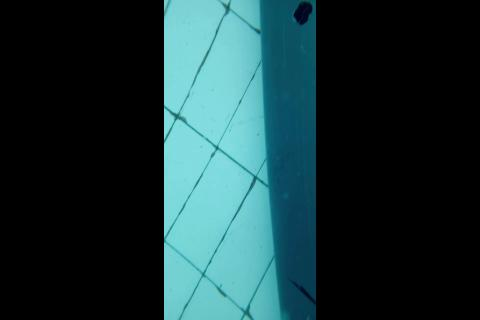kebocoran: (293, 0, 314, 26)
keretakan: (287, 275, 315, 305)
